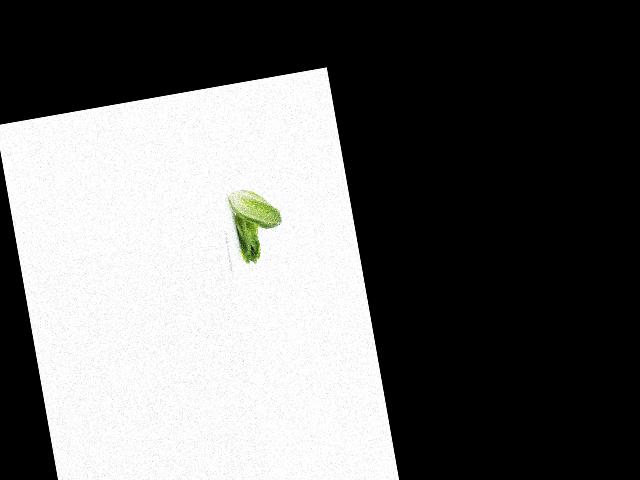lettuce: (227, 210, 268, 266)
